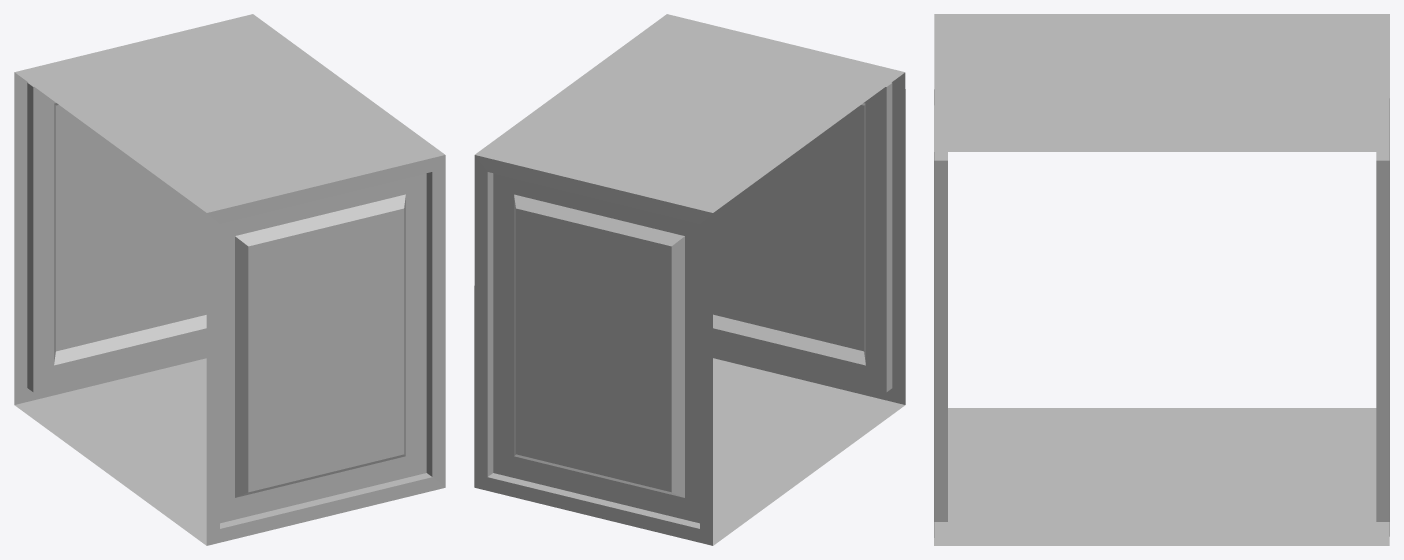
The model's file is Itr_Diningtable_Body_Middle_06.FBX.
3 renders of one model, left to right at view 1: azimuth 30°, elevation 25°; view 2: azimuth 150°, elevation 25°; view 3: azimuth 270°, elevation 25°, orthographic. The views are drawn at different scales.
Parts seen in each view (by area): view 1: Itr_Diningtable_Body_Middle_06; view 2: Itr_Diningtable_Body_Middle_06; view 3: Itr_Diningtable_Body_Middle_06.
Part boxes in pixels (left/top/right/bottom): Itr_Diningtable_Body_Middle_06: left=14, top=14, right=445, bottom=545; Itr_Diningtable_Body_Middle_06: left=474, top=14, right=905, bottom=545; Itr_Diningtable_Body_Middle_06: left=934, top=14, right=1389, bottom=545.
Size of the model in its own units: 24.71 by 32.91 by 34.5.
